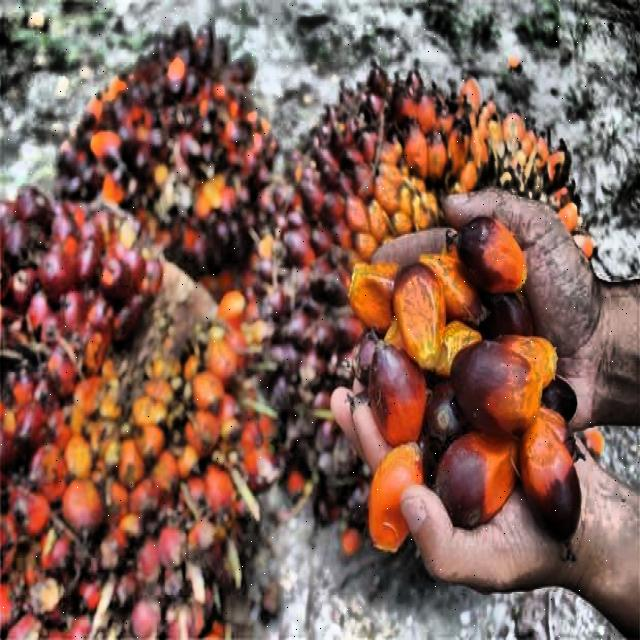FFB: (0, 188, 274, 640), (58, 30, 277, 283)
